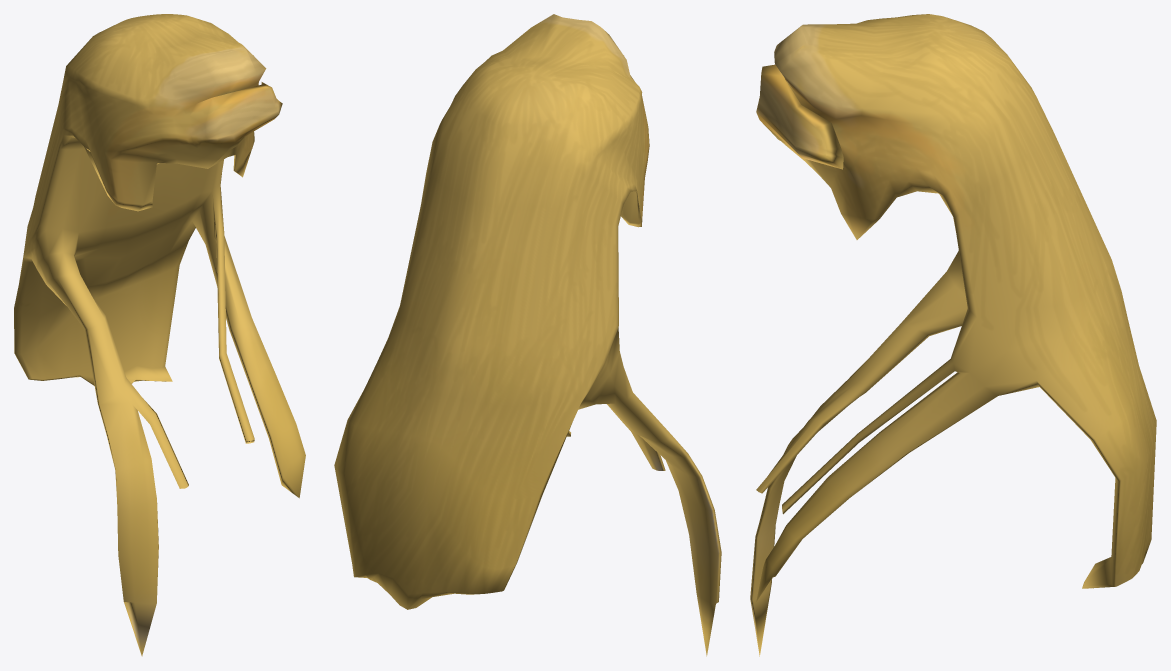
File: hair 1.fbx
The picture shows the model from 3 angles, left to right: view 1: azimuth 30°, elevation 25°; view 2: azimuth 150°, elevation 25°; view 3: azimuth 270°, elevation 25°; orthographic projection. The views are drawn at different scales.
Visible parts, largest first — view 1: pasted__pSphere16; view 2: pasted__pSphere16; view 3: pasted__pSphere16.
Boxes of the visible parts, x1,y1,x2,y2 form: pasted__pSphere16: [14, 14, 305, 656]; pasted__pSphere16: [334, 14, 721, 656]; pasted__pSphere16: [750, 14, 1156, 656].
Bounding box in the file's own units: 1.4 × 3.69 × 1.99.
1 material, 1 textured.
